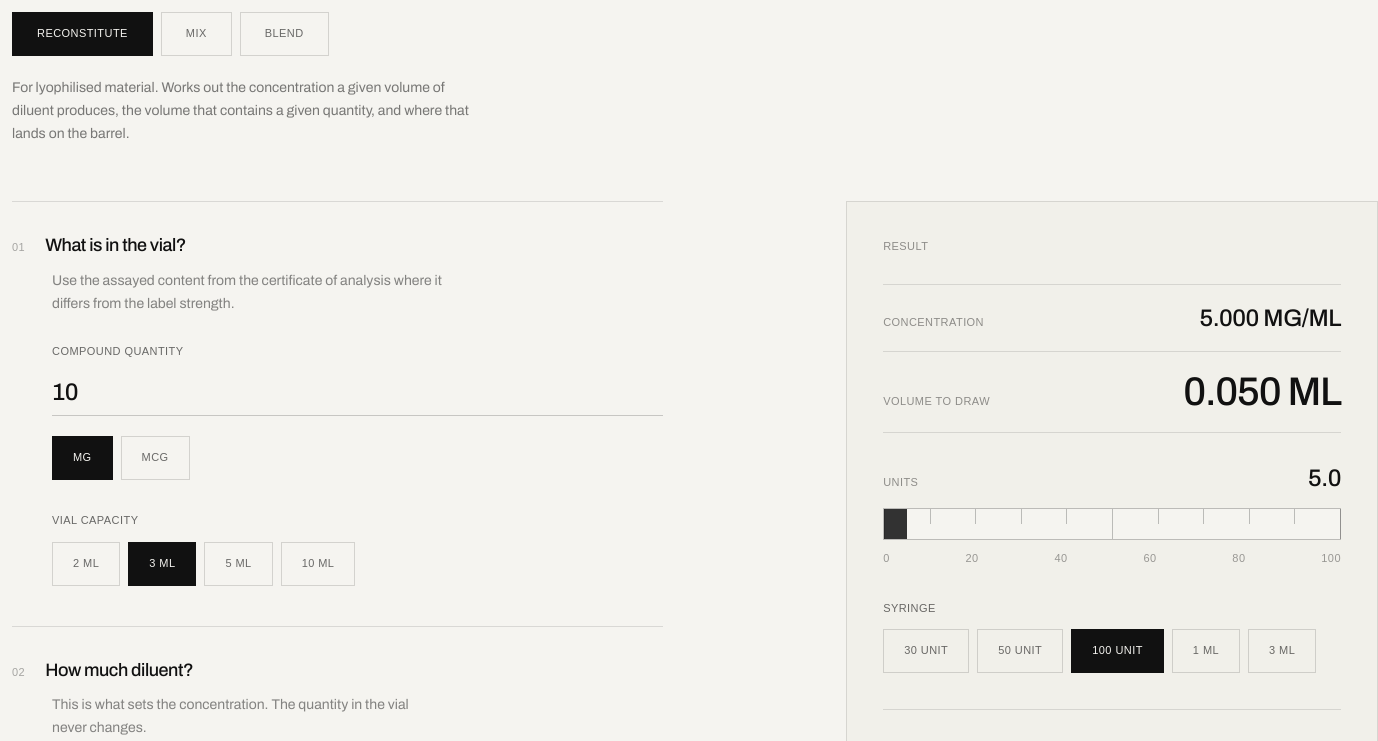
Test: mode switching › switches to Blend on click
The image size is (1378, 741).
Step 1. Click the tab "Blend" → (284, 34), box [240,12,329,56]
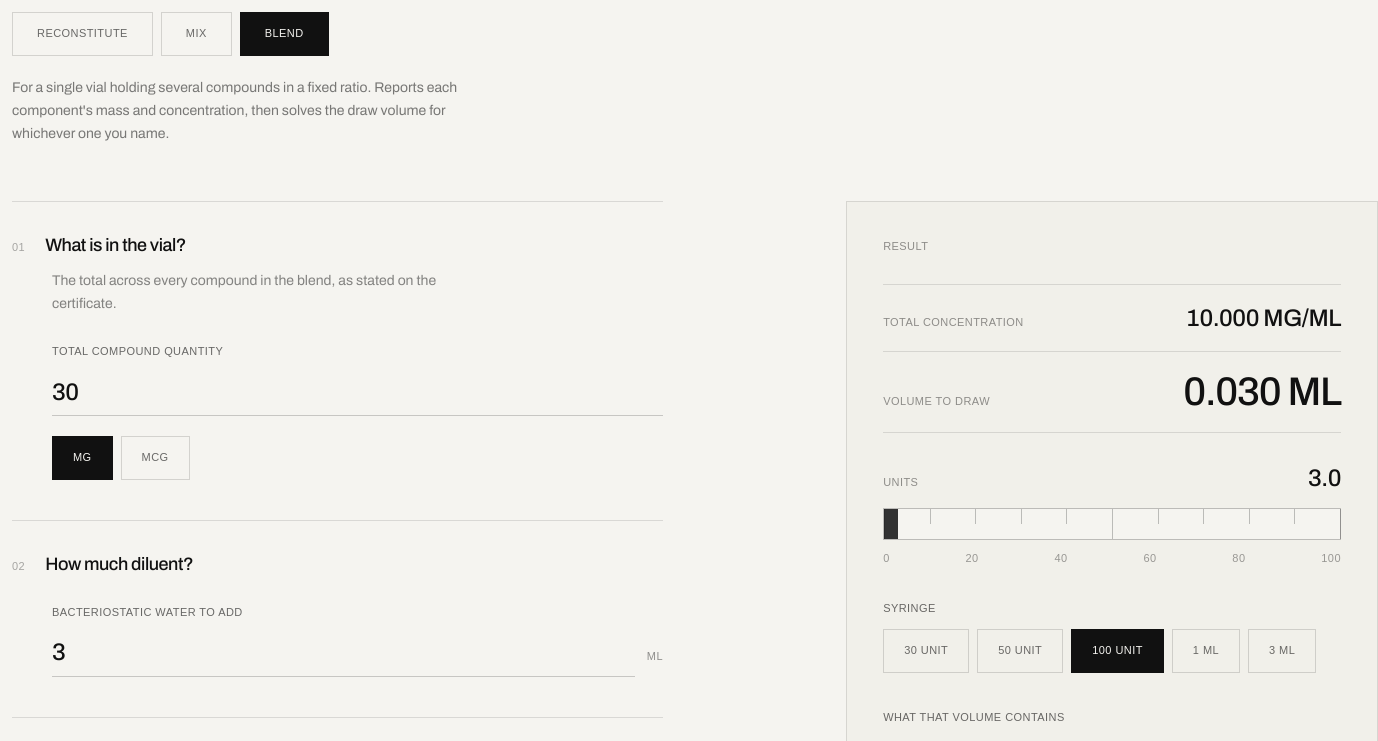
Result: the number field labelled "Total compound quantity" is shown at [52,369,663,416]
